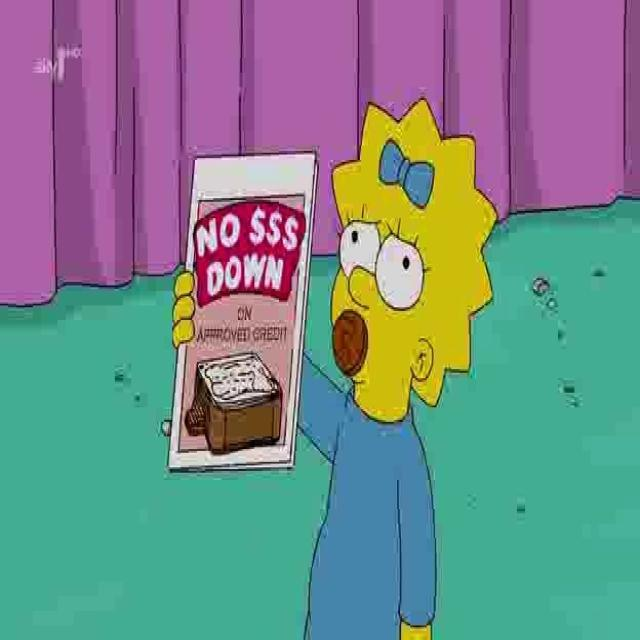Maggie Simpson: (329, 93, 500, 427)
